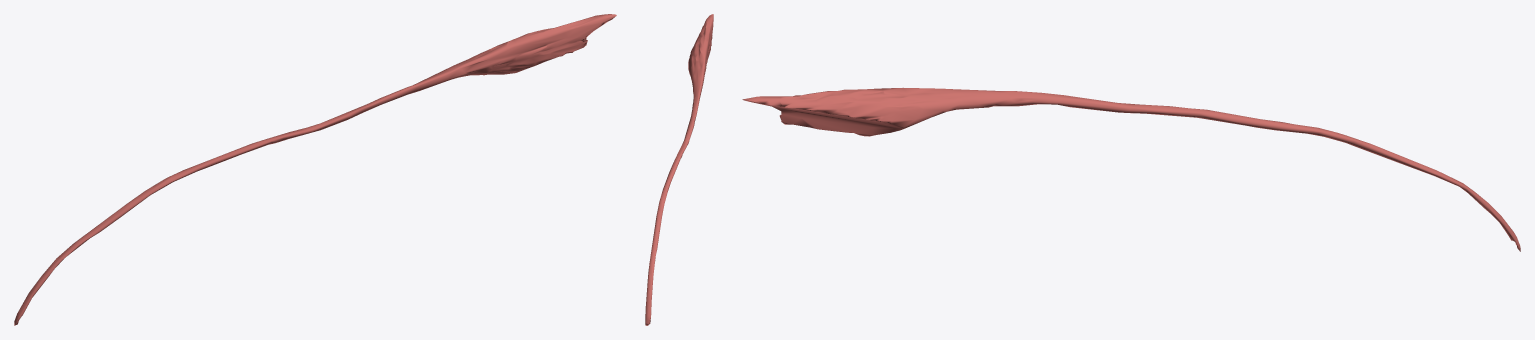
The picture shows the model from 3 angles, left to right: view 1: azimuth 90°, elevation 25°; view 2: azimuth 150°, elevation 25°; view 3: azimuth 270°, elevation 25°; orthographic projection. The views are drawn at different scales.
Visible parts, largest first — view 1: 右侧示指伸肌; view 2: 右侧示指伸肌; view 3: 右侧示指伸肌.
Part boxes in pixels (box(x1,y1,x2,y2)): 右侧示指伸肌: box(14, 14, 616, 325); 右侧示指伸肌: box(645, 14, 713, 325); 右侧示指伸肌: box(742, 87, 1520, 251).
Bounding box in the file's own units: 0.1189 × 0.1195 × 0.3036.
